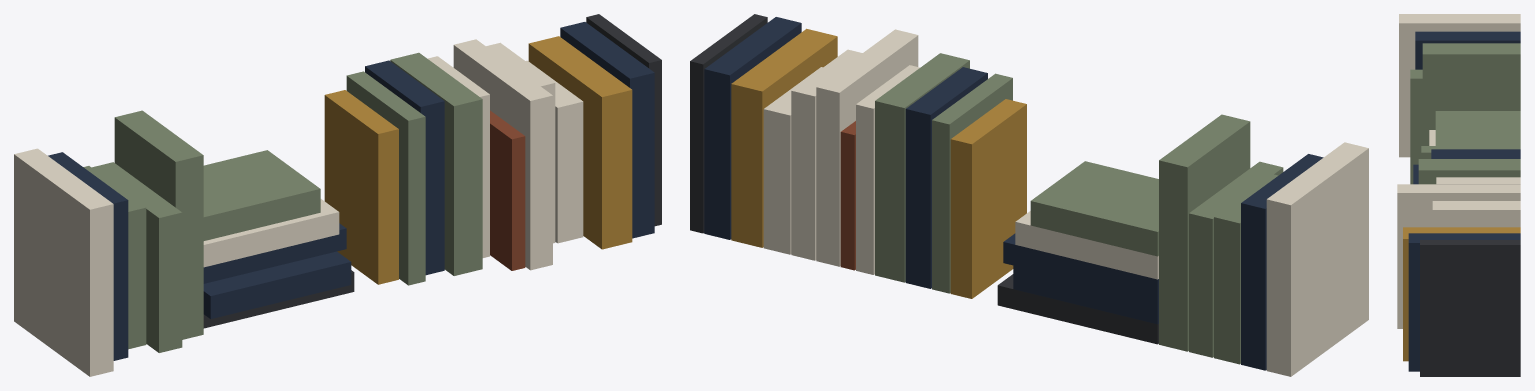
File: books.glb
The picture shows the model from 3 angles, left to right: view 1: azimuth 30°, elevation 25°; view 2: azimuth 150°, elevation 25°; view 3: azimuth 270°, elevation 25°; orthographic projection. The views are drawn at different scales.
Parts seen in each view (by area): view 1: books; view 2: books; view 3: books.
Part boxes in pixels (left/top/right/bottom): books: left=14, top=14, right=661, bottom=376; books: left=690, top=14, right=1368, bottom=376; books: left=1397, top=14, right=1520, bottom=376.
Size of the model in its own units: 0.9702 by 0.2846 by 0.2208.
